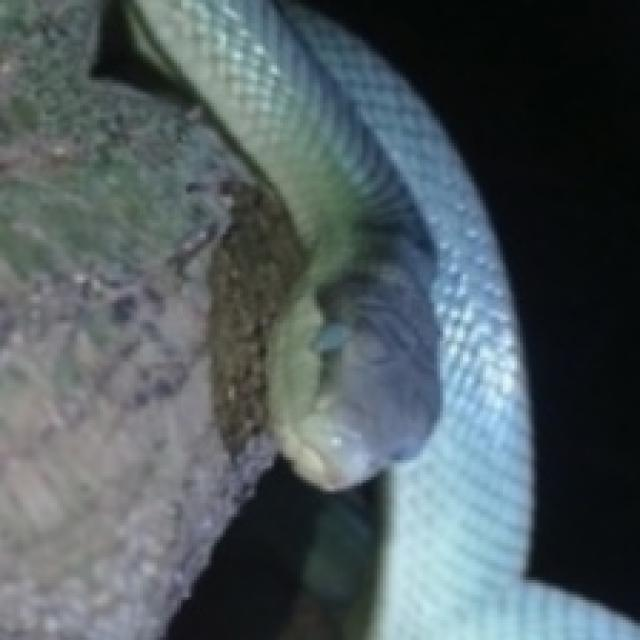red-tailed green ratsnake: (126, 0, 637, 637), (123, 0, 437, 489)
